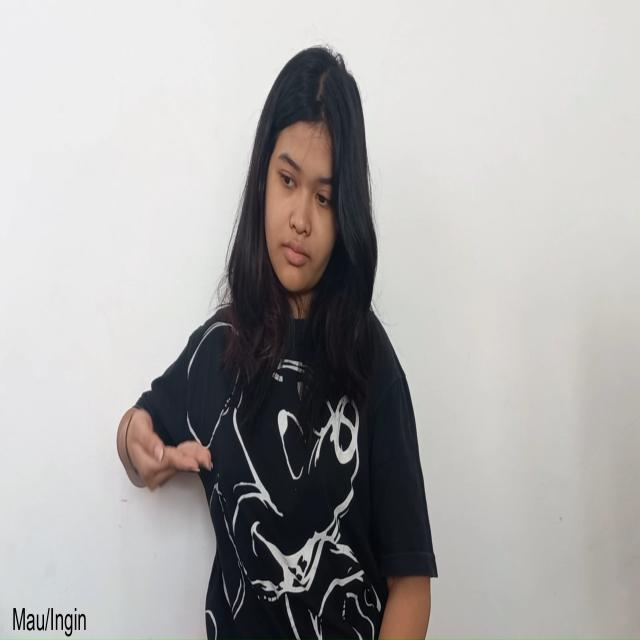Mau-Ingin -BISINDO-: (120, 404, 218, 496)
